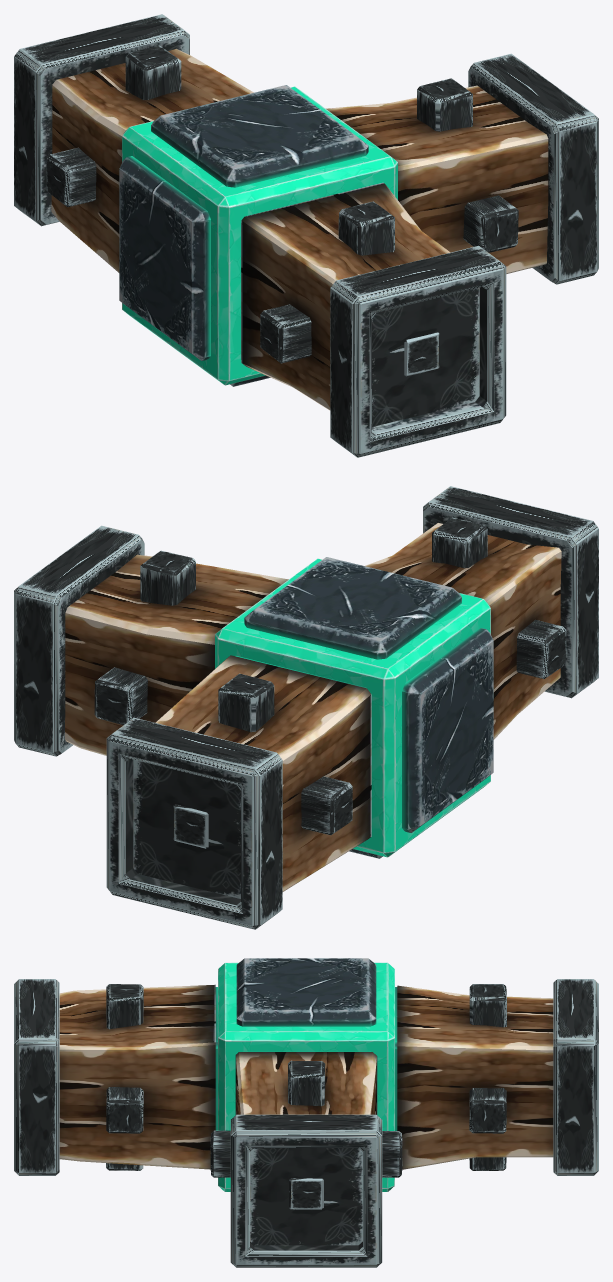
Rendered from step_004.glb.
3 views of the same model, one above another, from view 1: azimuth 30°, elevation 25°; view 2: azimuth 150°, elevation 25°; view 3: azimuth 270°, elevation 25° (orthographic). The views are drawn at different scales.
Parts seen in each view (by area): view 1: SingleWoodenBlock_27d09ec1-9df3-475f-a4f9-4b6f61505be6, StartingBlock_71495246-291b-49d8-9ca8-68c87e015d7b; view 2: SingleWoodenBlock_27d09ec1-9df3-475f-a4f9-4b6f61505be6, StartingBlock_71495246-291b-49d8-9ca8-68c87e015d7b; view 3: SingleWoodenBlock_27d09ec1-9df3-475f-a4f9-4b6f61505be6, StartingBlock_71495246-291b-49d8-9ca8-68c87e015d7b.
Part boxes in pixels (bbox=[...]): SingleWoodenBlock_27d09ec1-9df3-475f-a4f9-4b6f61505be6: bbox=[14, 14, 598, 457]; StartingBlock_71495246-291b-49d8-9ca8-68c87e015d7b: bbox=[119, 85, 397, 386]; SingleWoodenBlock_27d09ec1-9df3-475f-a4f9-4b6f61505be6: bbox=[14, 486, 598, 929]; StartingBlock_71495246-291b-49d8-9ca8-68c87e015d7b: bbox=[215, 557, 493, 858]; SingleWoodenBlock_27d09ec1-9df3-475f-a4f9-4b6f61505be6: bbox=[14, 979, 598, 1267]; StartingBlock_71495246-291b-49d8-9ca8-68c87e015d7b: bbox=[215, 958, 397, 1191].
Bounding box in the file's own units: 2.18 × 1.13 × 3.22.
2 materials, 2 textured.
